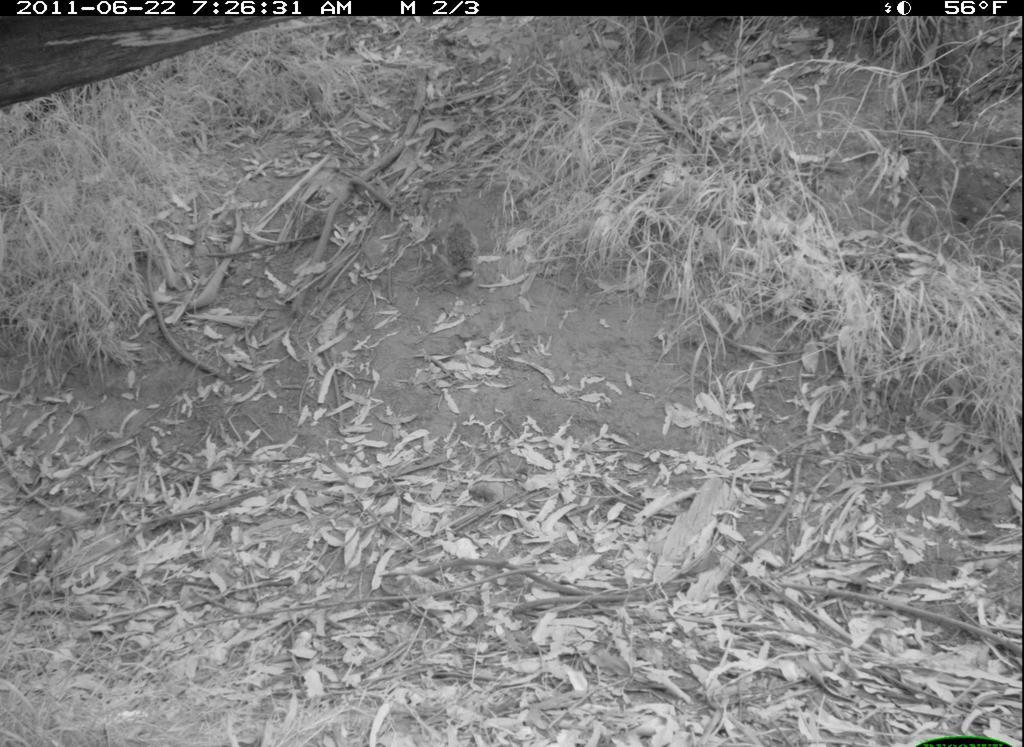rabbit: (414, 190, 502, 300)
